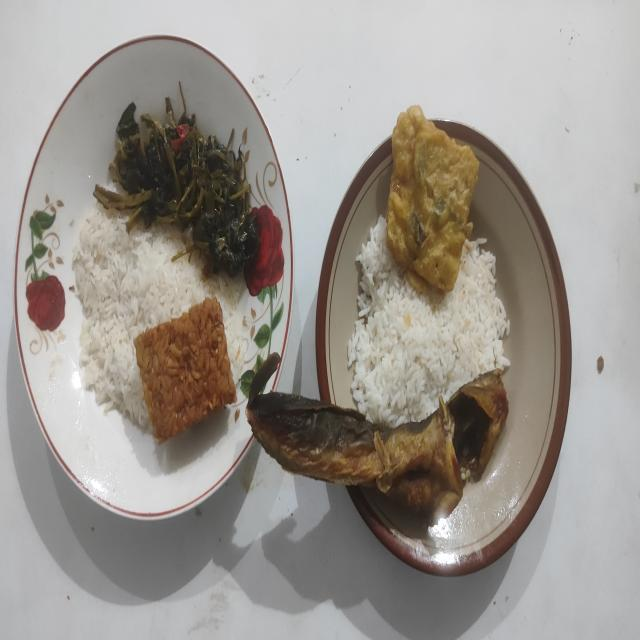nasi_putih: (73, 204, 251, 430), (348, 216, 510, 427)
tempe_goreng: (134, 298, 236, 442)
tumis_kangkung: (94, 98, 260, 276)
